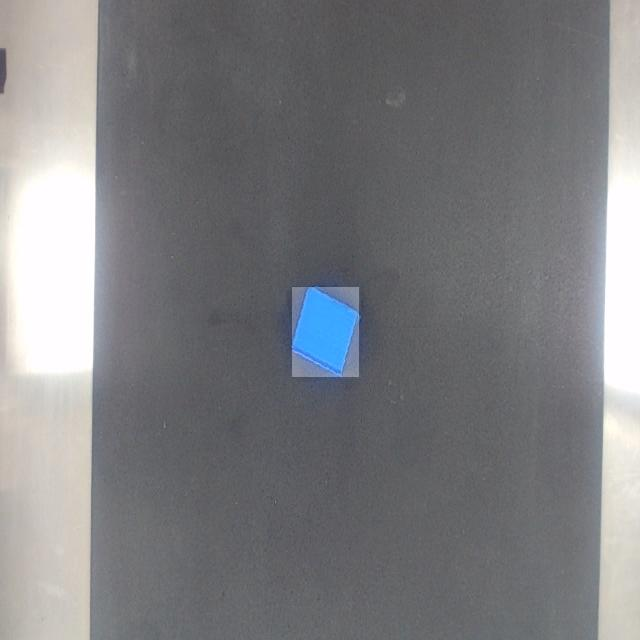Azul: (293, 287, 359, 377)
